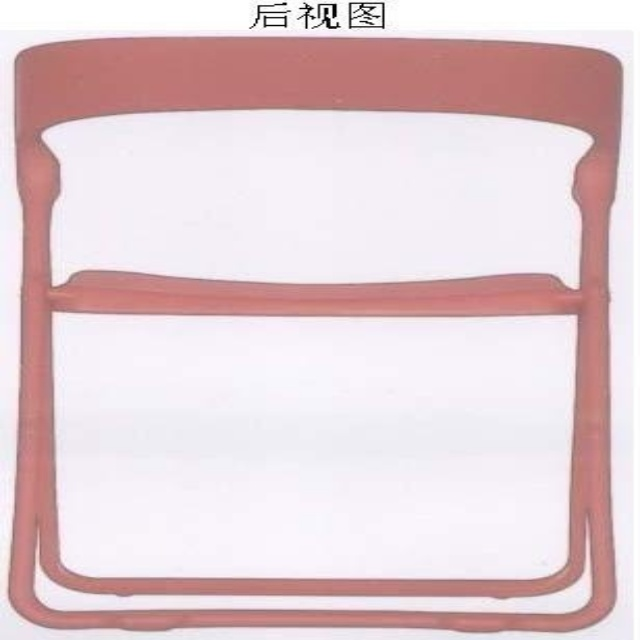obstacle: (8, 37, 619, 631)
